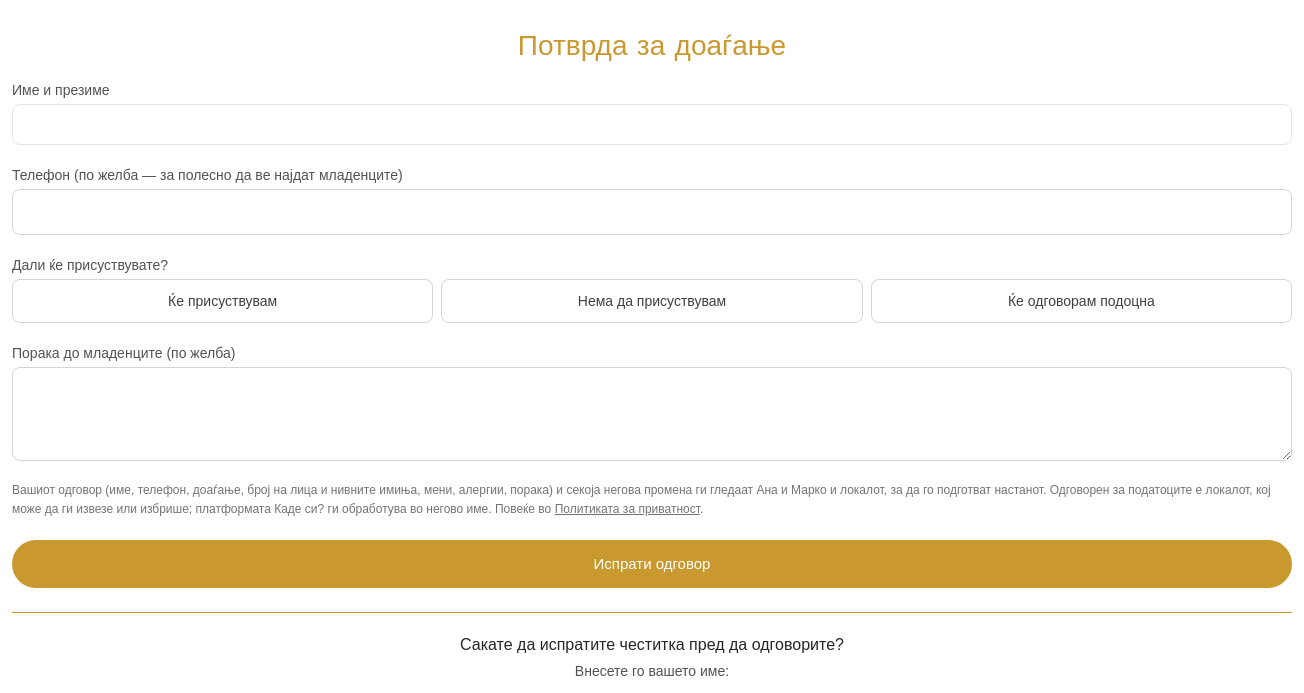
Test case: greeting after the RSVP (0151) › shared link: offered only after answering — even a no — and sent with the RSVP's ticket
The image size is (1304, 693).
Expected: the button "Испрати честитка" is not shown
Type "Петар Петровски" into the field labelled "Име и презиме" at (652, 124), box [12,104,1292,144]
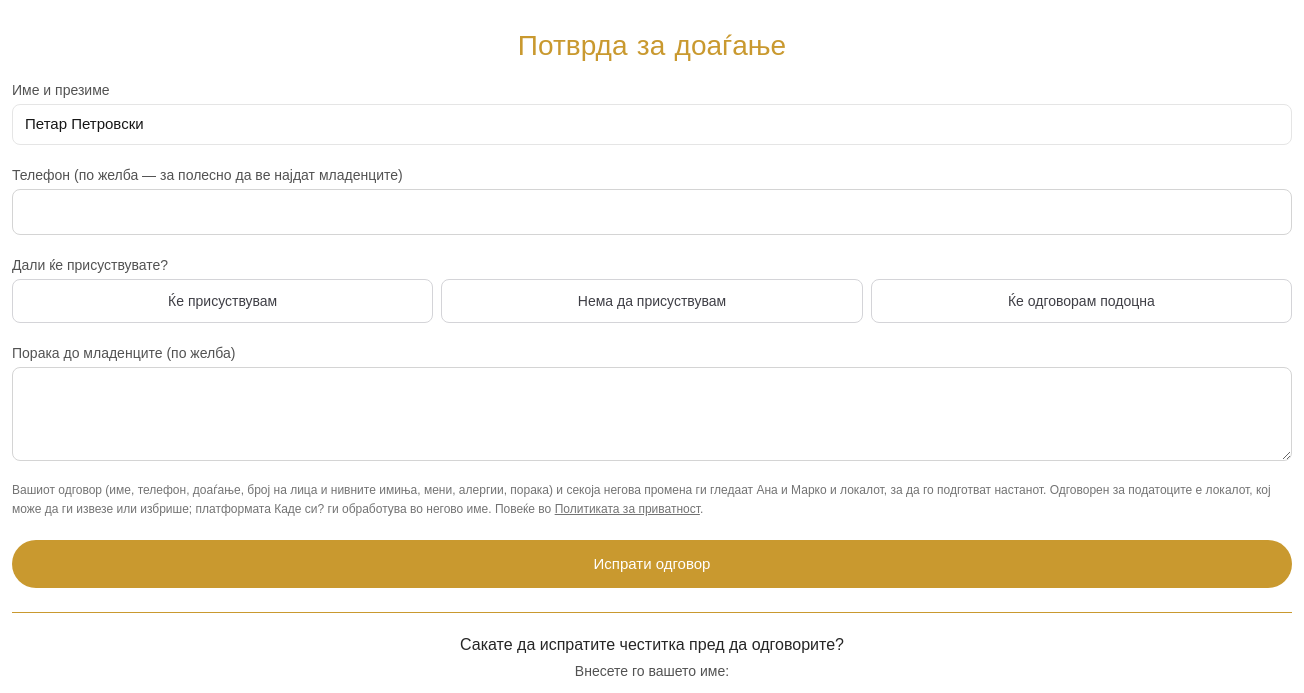
Click the button "Нема да присуствувам" at (652, 300), box [441,278,863,322]
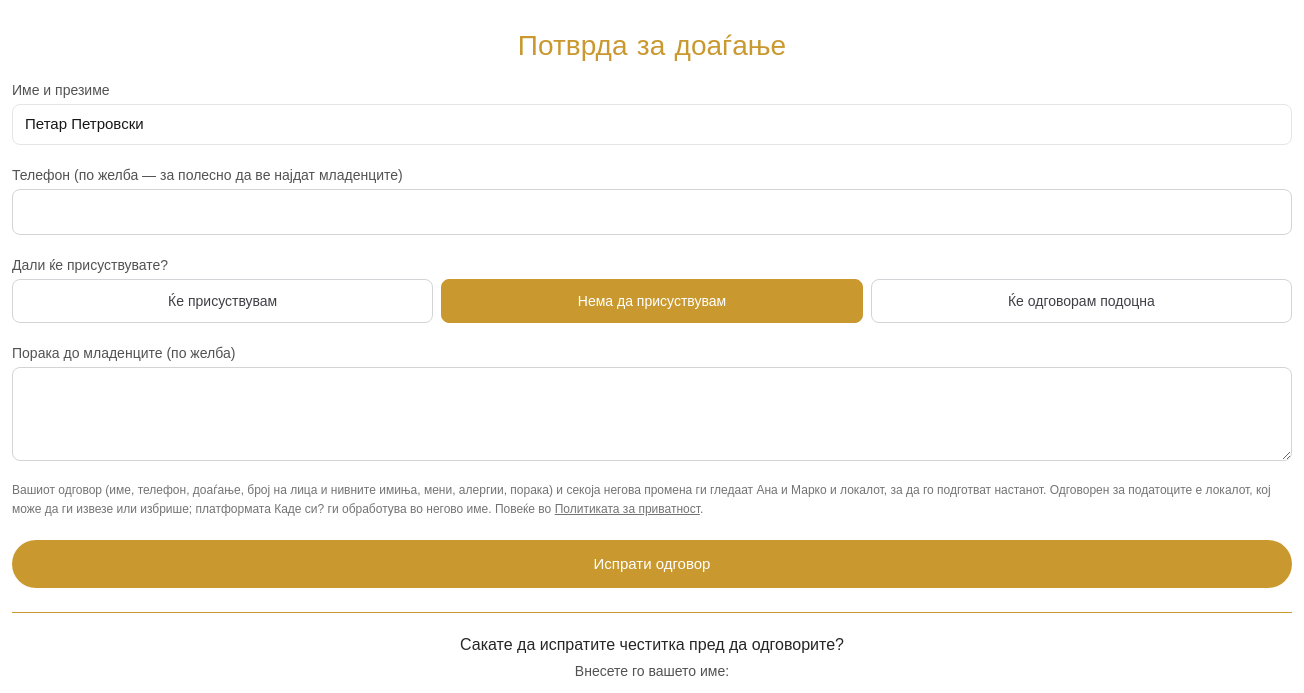
Click the button "Испрати одговор" at (652, 564), box [12,540,1292,588]
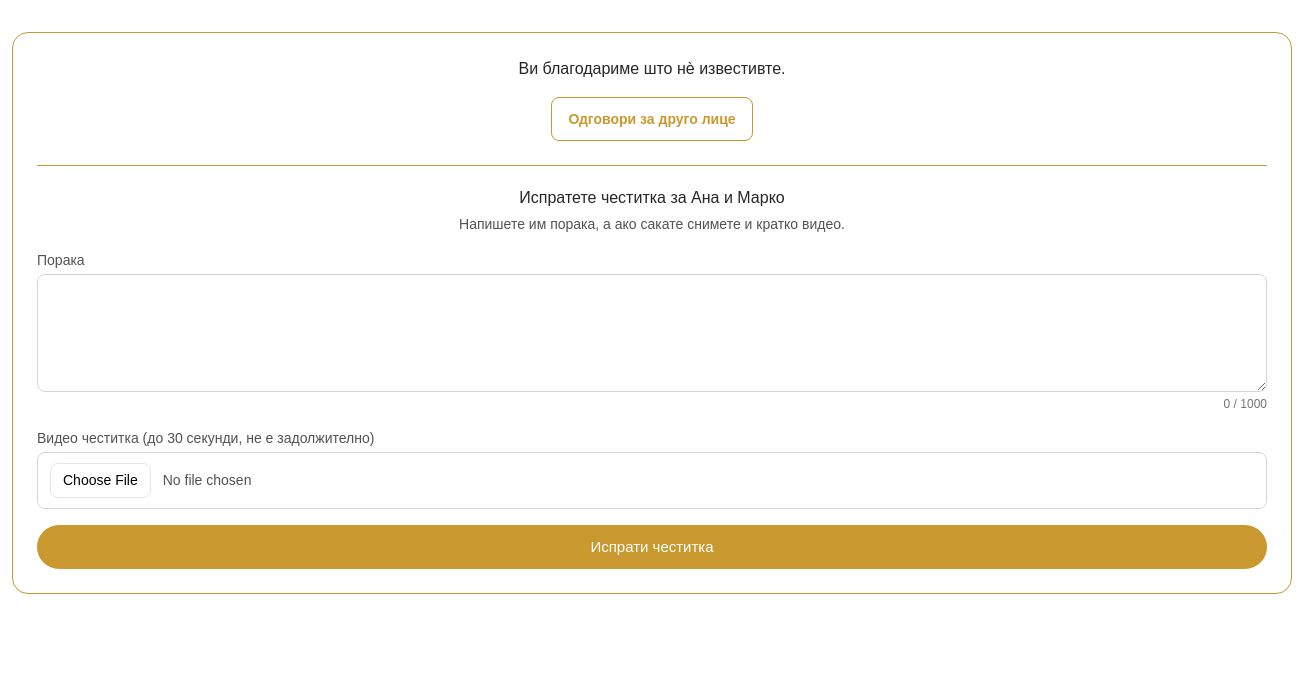
Now the text "Испратете честитка за Ана и Марко" is shown, box [519,189,785,206]
Type "  Честито и среќен живот!  " into the text box labelled "Порака" at (652, 333), box [37,274,1267,392]
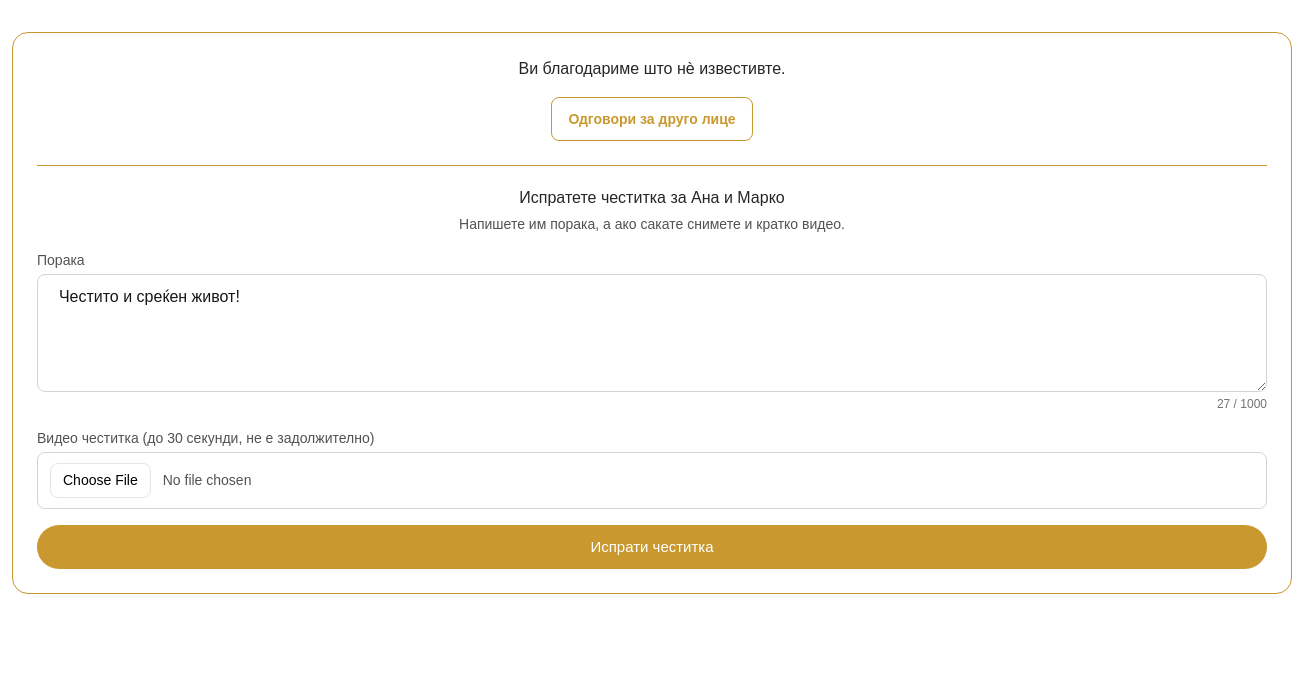
Click the button "Испрати честитка" at (652, 547), box [37,525,1267,569]
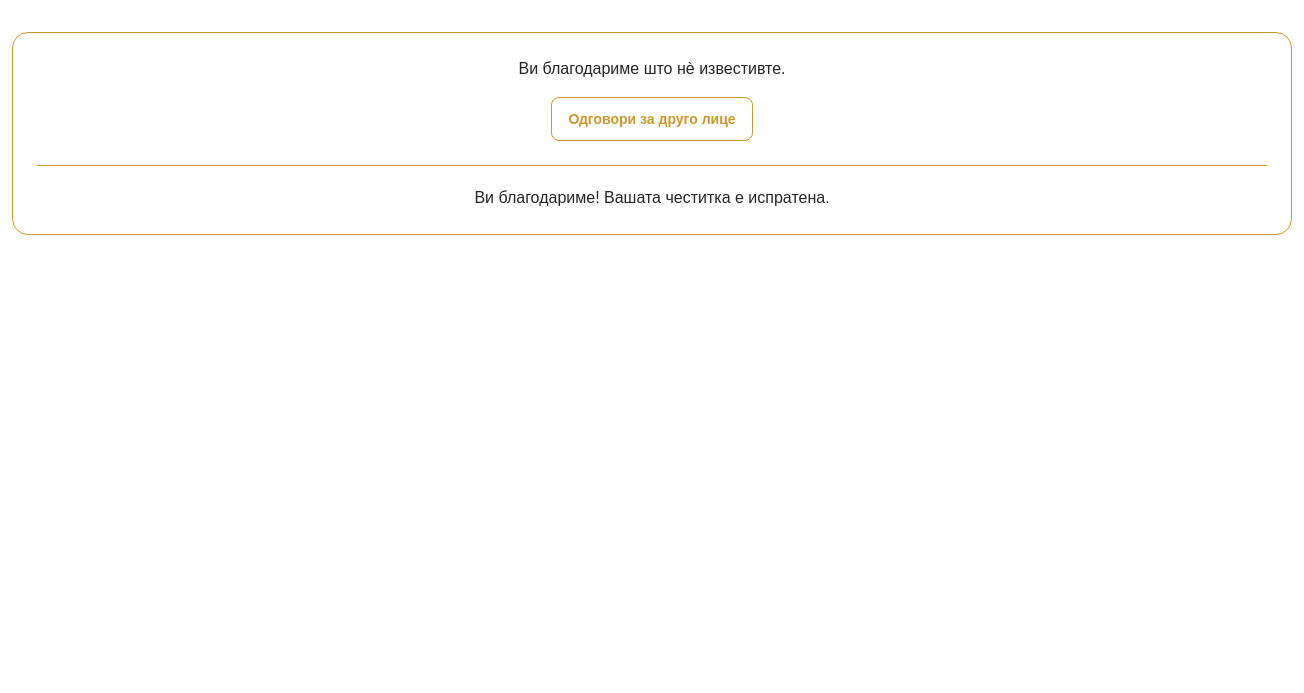
Now the text "Ви благодариме! Вашата честитка е испратена." is shown, box [37,165,1267,210]
